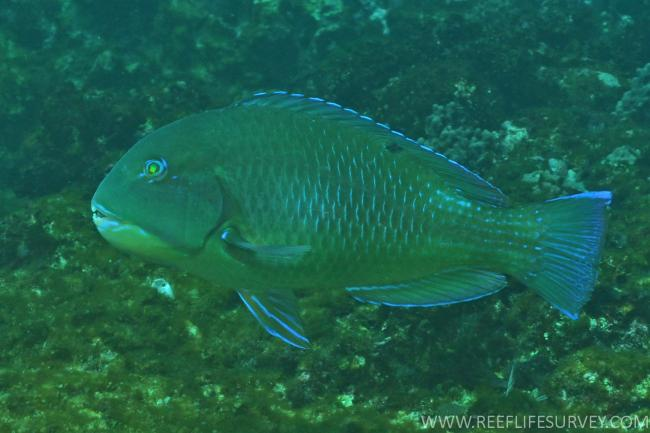fish: (91, 92, 614, 349)
